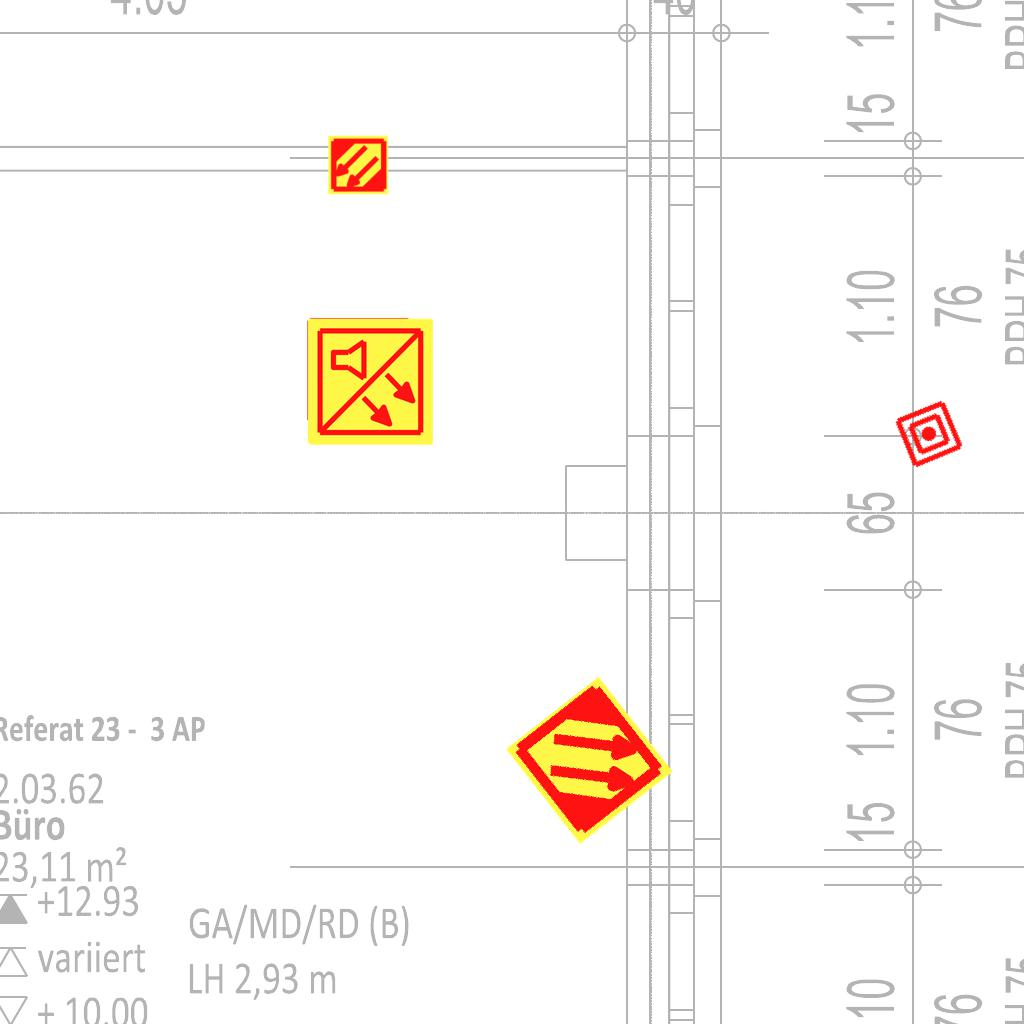ASR_Ansaugrauchmelder: (501, 672, 678, 849), (327, 134, 389, 196)
NAM-Nichtautomatischer_Melder: (892, 397, 966, 471)
OKW_Multisensormelder_(Kombination_optischer_Rauch-Kahlenmonoxid_Waerme-Melder): (304, 316, 436, 448)
